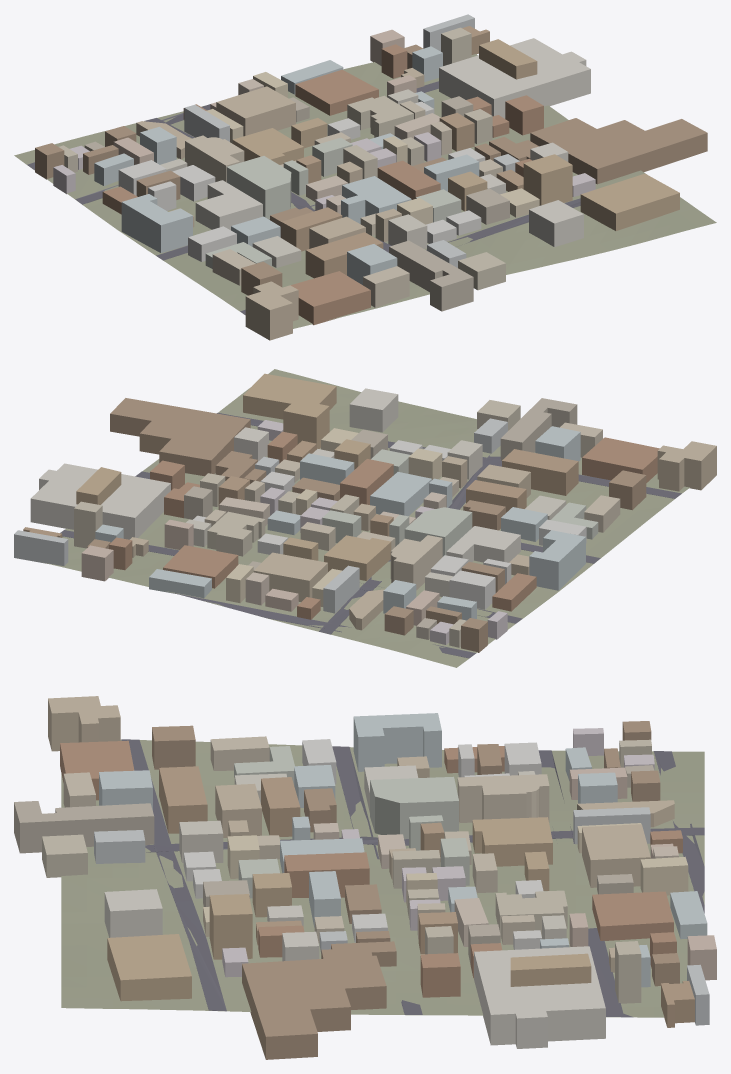
The model's file is chunk_5_7.glb.
The picture shows the model from 3 angles, top to bottom: view 1: azimuth 30°, elevation 25°; view 2: azimuth 150°, elevation 25°; view 3: azimuth 270°, elevation 25°; orthographic projection. The views are drawn at different scales.
Parts seen in each view (by area): view 1: geometry_121, geometry_4, geometry_92, geometry_26, geometry_15, geometry_23, geometry_11, geometry_67, geometry_82, geometry_13, geometry_35, geometry_73 (+62 smaller); view 2: geometry_121, geometry_4, geometry_92, geometry_26, geometry_13, geometry_23, geometry_11, geometry_15, geometry_6, geometry_82, geometry_7, geometry_20 (+69 smaller); view 3: geometry_121, geometry_4, geometry_92, geometry_26, geometry_15, geometry_23, geometry_67, geometry_20, geometry_126, geometry_35, geometry_82, geometry_7 (+75 smaller).
Part boxes in pixels (bbox=[...]): geometry_121: bbox=[14, 54, 716, 328]; geometry_4: bbox=[530, 118, 707, 184]; geometry_92: bbox=[439, 38, 590, 118]; geometry_26: bbox=[580, 173, 679, 230]; geometry_15: bbox=[389, 240, 473, 311]; geometry_23: bbox=[121, 194, 192, 252]; geometry_11: bbox=[291, 271, 370, 325]; geometry_67: bbox=[226, 156, 291, 218]; geometry_82: bbox=[216, 86, 295, 136]; geometry_13: bbox=[245, 281, 298, 340]; geometry_35: bbox=[295, 69, 378, 115]; geometry_73: bbox=[195, 180, 262, 230]; geometry_121: bbox=[43, 369, 689, 667]; geometry_4: bbox=[110, 398, 250, 476]; geometry_92: bbox=[30, 463, 170, 539]; geometry_26: bbox=[243, 373, 336, 419]; geometry_13: bbox=[657, 441, 716, 491]; geometry_23: bbox=[529, 530, 585, 590]; geometry_11: bbox=[582, 437, 659, 482]; geometry_15: bbox=[500, 398, 577, 460]; geometry_6: bbox=[502, 449, 578, 495]; geometry_82: bbox=[253, 552, 327, 601]; geometry_7: bbox=[324, 535, 391, 580]; geometry_20: bbox=[390, 535, 442, 590]; geometry_121: bbox=[61, 739, 704, 1017]; geometry_4: bbox=[242, 955, 386, 1059]; geometry_92: bbox=[474, 946, 605, 1048]; geometry_26: bbox=[107, 934, 191, 1001]; geometry_15: bbox=[14, 801, 154, 853]; geometry_23: bbox=[353, 713, 441, 771]; geometry_67: bbox=[370, 776, 458, 839]; geometry_20: bbox=[457, 774, 549, 823]; geometry_126: bbox=[121, 739, 226, 1011]; geometry_35: bbox=[592, 891, 673, 940]; geometry_82: bbox=[582, 824, 650, 887]; geometry_7: bbox=[472, 817, 552, 866].
Size of the model in its own units: 297 by 24.77 by 273.
